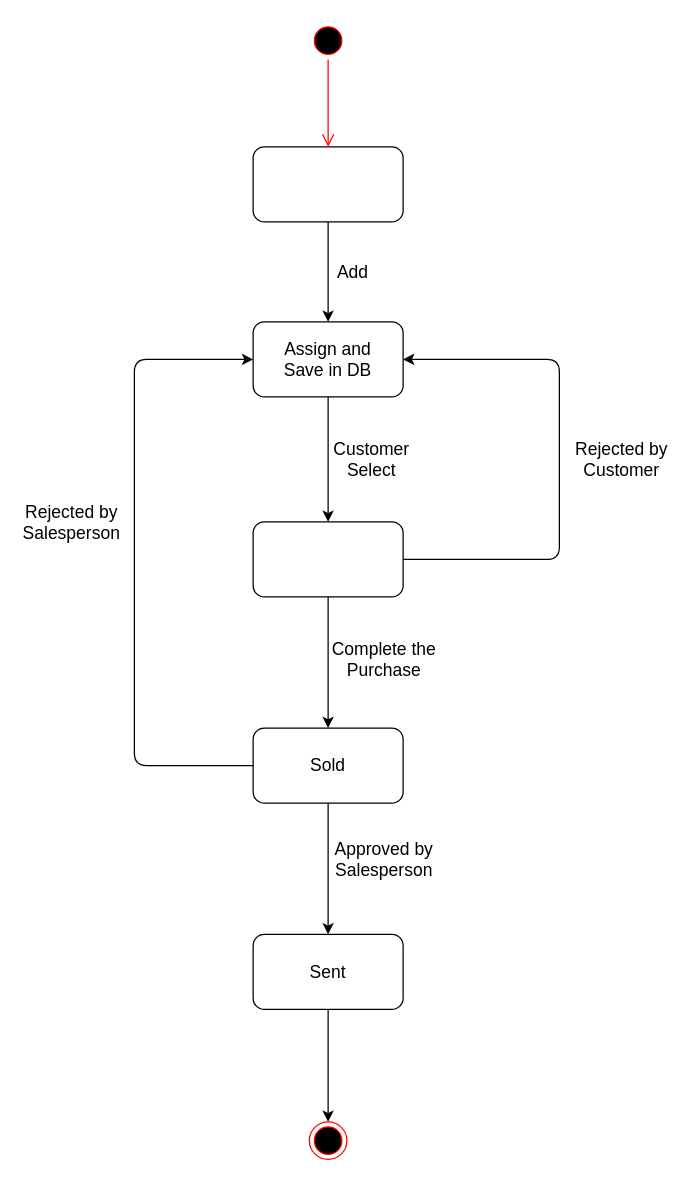
The diagram is 693 pixels wide and 1181 high, and some of its shapes have lost their labels. The shapes that lost their labels are listed below. From the top down, each one's centre as x and y in pixels, then its label:
the point at 327,184: Initialization
the point at 327,559: Add to Purchase Basket
